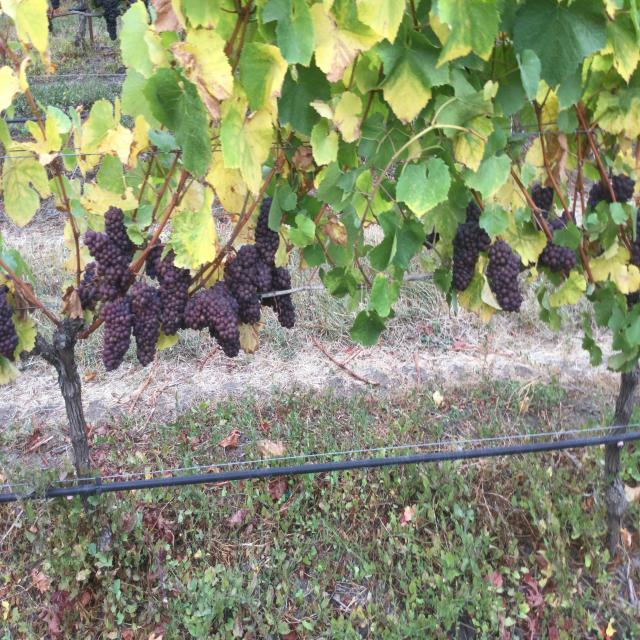grapes: (84, 207, 132, 302), (184, 282, 240, 358), (146, 247, 191, 335), (452, 200, 491, 292), (226, 245, 260, 325), (130, 282, 161, 367), (488, 240, 522, 312), (100, 297, 132, 372), (255, 197, 279, 268), (0, 285, 19, 360), (539, 240, 576, 275), (256, 258, 291, 292), (261, 295, 295, 328), (78, 262, 101, 310)
